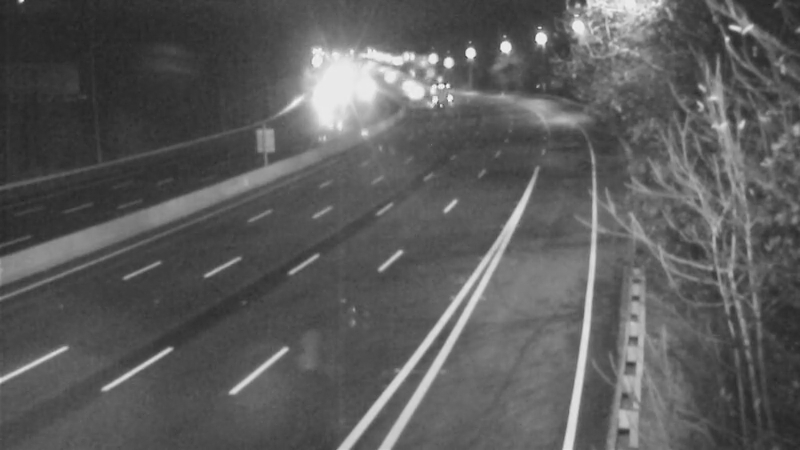vehicle: (362, 51, 412, 101), (383, 59, 433, 109), (388, 70, 438, 120), (411, 71, 461, 121)
